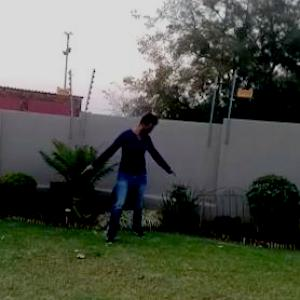land: (77, 108, 186, 250)
